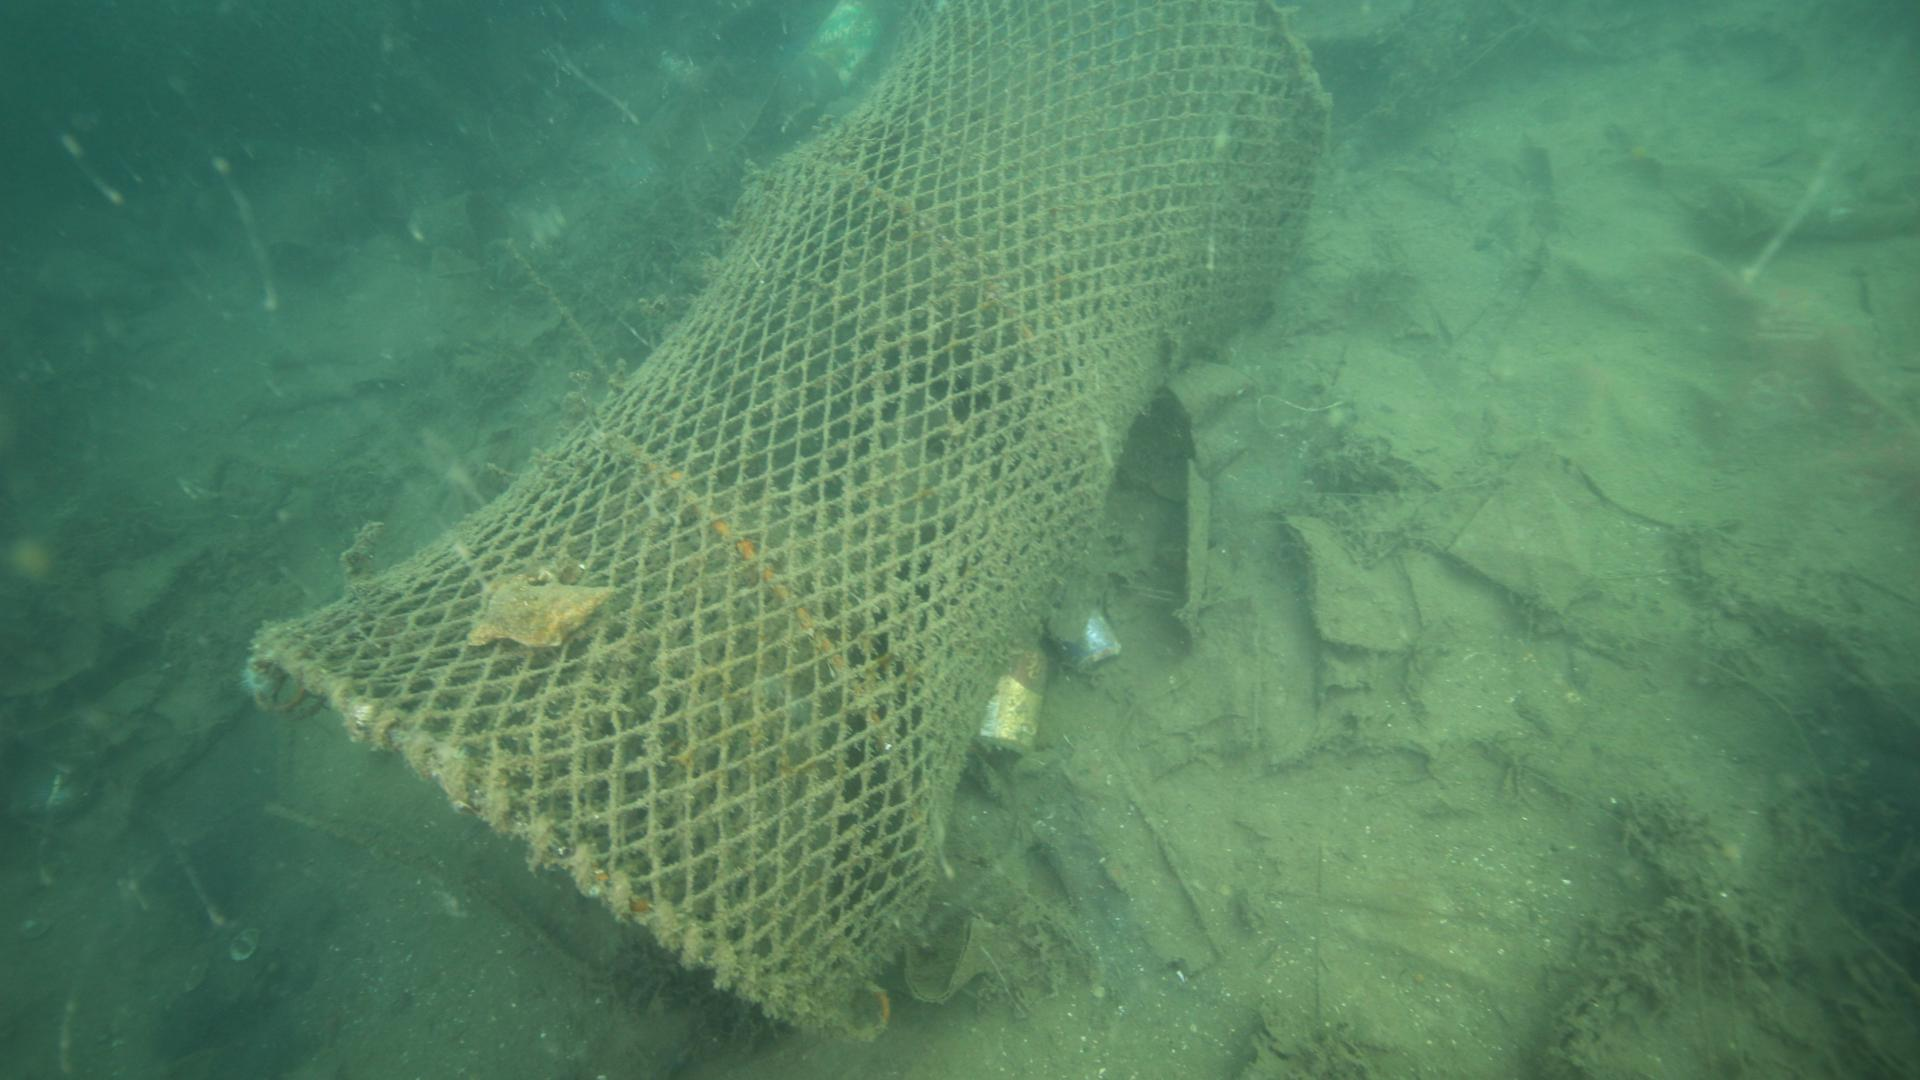spring fish trap: (233, 5, 1335, 1040)
